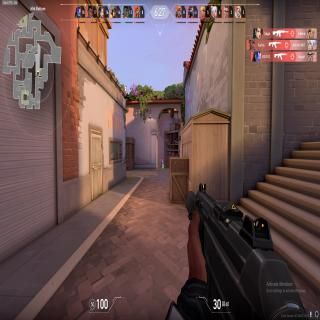ENEMY-BODY: (160, 157, 164, 169)
ENEMY-HEAD: (161, 157, 163, 160)
